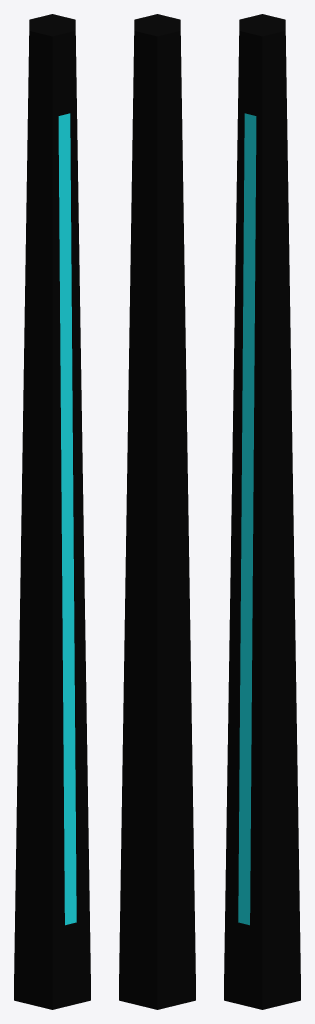
File: pylon.glb
3 views of the same model, side by side, from view 1: azimuth 30°, elevation 25°; view 2: azimuth 150°, elevation 25°; view 3: azimuth 330°, elevation 25° (orthographic).
Visible parts, largest first — view 1: pylon; view 2: pylon; view 3: pylon.
Part boxes in pixels (x1=…): pylon: x1=14, y1=14, x2=90, y2=1009; pylon: x1=119, y1=14, x2=195, y2=1009; pylon: x1=224, y1=14, x2=300, y2=1009.
Size of the model in its own units: 0.5 by 6 by 0.433.
